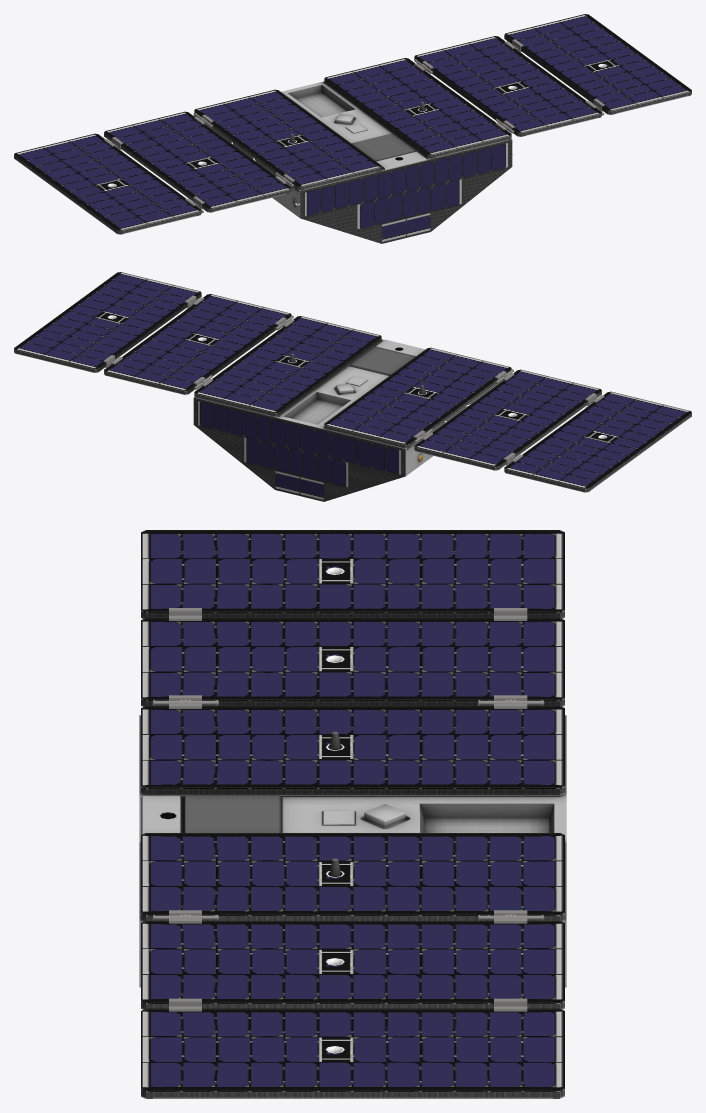
The model's file is CYGNSS.gltf.
The picture shows the model from 3 angles, top to bottom: view 1: azimuth 30°, elevation 25°; view 2: azimuth 150°, elevation 25°; view 3: azimuth 270°, elevation 25°; orthographic projection. The views are drawn at different scales.
Visible parts, largest first — view 1: node_BUS_-20044, node_array_right3_-20066, node_array_left2_-20076, node_array_right1_-20052, node_array_left1_-20050; view 2: node_BUS_-20044, node_array_right3_-20066, node_array_left2_-20076, node_array_right1_-20052, node_array_left1_-20050; view 3: node_BUS_-20044, node_array_left2_-20076, node_array_right3_-20066, node_array_left1_-20050, node_array_right1_-20052, node_hinges_right1_left_-20056, node_hinges_left1_right_-20054.
Part boxes in pixels (bbox=[...]): node_BUS_-20044: bbox=[193, 58, 512, 243]; node_array_right3_-20066: bbox=[14, 133, 201, 234]; node_array_left2_-20076: bbox=[504, 14, 691, 114]; node_array_right1_-20052: bbox=[104, 111, 291, 212]; node_array_left1_-20050: bbox=[414, 36, 601, 136]; node_BUS_-20044: bbox=[193, 316, 511, 501]; node_array_right3_-20066: bbox=[504, 391, 691, 492]; node_array_left2_-20076: bbox=[14, 272, 201, 372]; node_array_right1_-20052: bbox=[414, 369, 601, 470]; node_array_left1_-20050: bbox=[104, 294, 291, 394]; node_BUS_-20044: bbox=[139, 706, 566, 987]; node_array_left2_-20076: bbox=[141, 1008, 564, 1098]; node_array_right3_-20066: bbox=[141, 530, 564, 618]; node_array_left1_-20050: bbox=[141, 921, 564, 1009]; node_array_right1_-20052: bbox=[141, 618, 564, 706]; node_hinges_right1_left_-20056: bbox=[152, 699, 544, 708]; node_hinges_left1_right_-20054: bbox=[152, 910, 544, 920].
Bounding box in the file's own units: 15.9 × 2.44 × 5.12.
5 materials, 1 textured.
